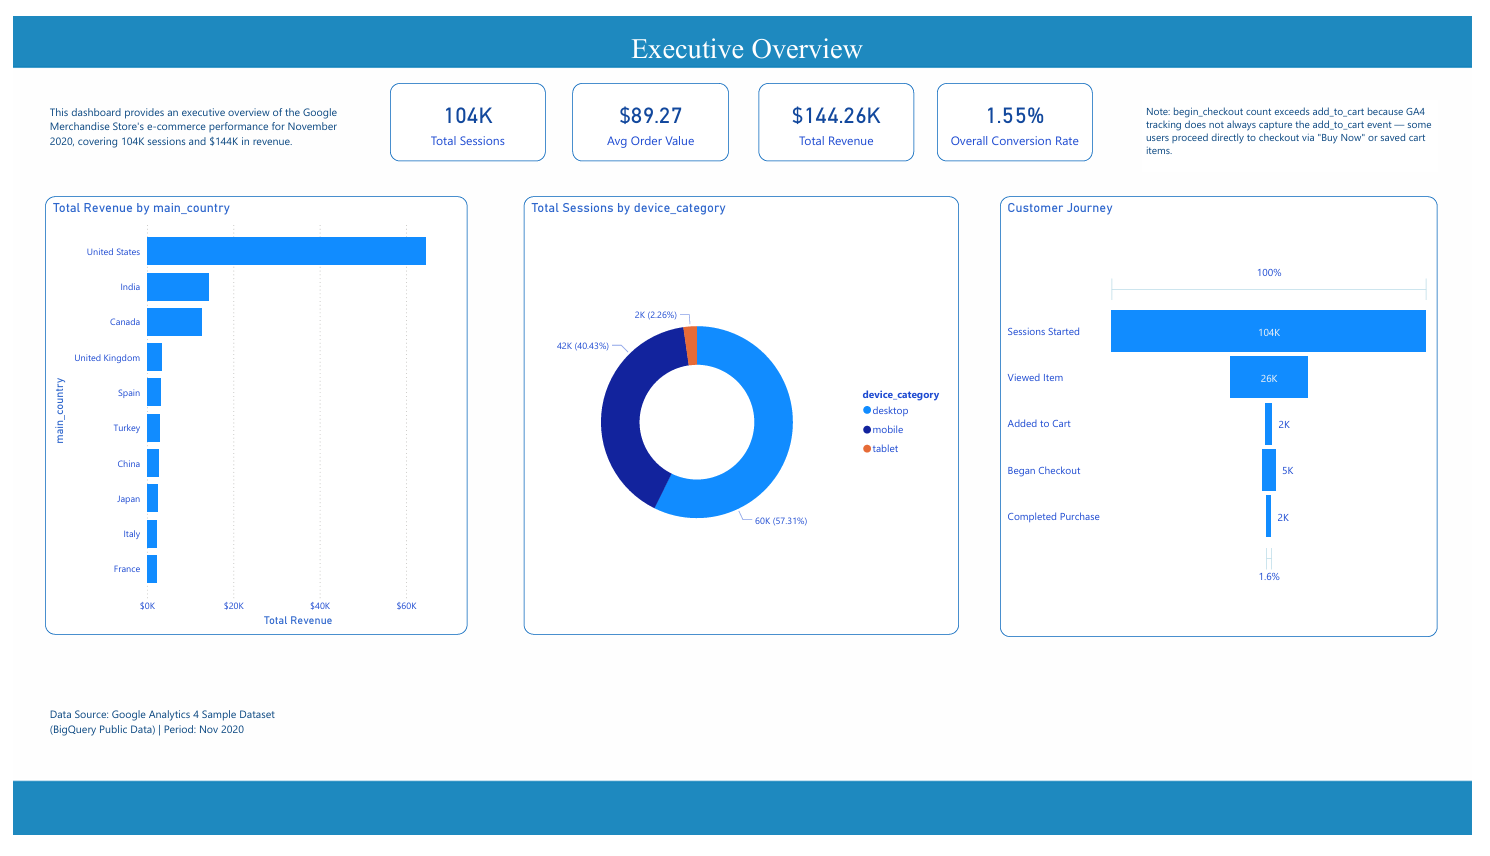

Layout of this report page (visuals, bound fields, positions):
{"tool":"powerbi","page":{"name":"Executive Overview","canvas":[1920,1080],"ordinal":0},"visuals":[{"type":"textbox","box":[775.1,15.7,381.9,71.9],"z":0},{"type":"card","fields":{"Values":["_Measures.Total Sessions"]},"box":[496.1,88.1,205,102.5],"z":1000},{"type":"card","fields":{"Values":["_Measures.Total Revenue"]},"box":[981.3,88.2,204.5,103.2],"z":2000},{"type":"card","fields":{"Values":["_Measures.Overall Conversion Rate"]},"box":[1215.6,88.1,205,102.5],"z":3000},{"type":"card","fields":{"Values":["_Measures.Avg Order Value"]},"box":[735.5,88.2,206.4,103.2],"z":4000},{"type":"funnel","title":"Customer Journey","fields":{"Y":["_Measures.Sessions Started","_Measures.Viewed Item","_Measures.Added to Cart","_Measures.Began Checkout","_Measures.Completed Purchase"]},"box":[1298.5,237.1,576.7,580.3],"z":5000},{"type":"donutChart","fields":{"Category":["marts fact_sessions.device_category"],"Y":["_Measures.Total Sessions"]},"box":[672.3,237.1,573.2,576.7],"z":6000},{"type":"clusteredBarChart","fields":{"Category":["marts dim_customers.main_country"],"Y":["_Measures.Total Revenue"]},"box":[42.5,237.1,555.5,576.7],"z":7000},{"type":"textbox","box":[1486,111.1,389,94.2],"z":8000},{"type":"textbox","box":[43.5,111.1,410.8,99.1],"z":8001},{"type":"textbox","box":[43.5,903.7,326.2,82.2],"z":8002}]}

Visuals, with their boxes in screenshot pixels (x1, y1, x2, y2), scaled from the page's 1920x1080 canvas onto the 1490x856 screenshot:
textbox: [left=602, top=12, right=898, bottom=69]
card - _Measures.Total Sessions: [left=385, top=70, right=544, bottom=151]
card - _Measures.Total Revenue: [left=762, top=70, right=920, bottom=152]
card - _Measures.Overall Conversion Rate: [left=943, top=70, right=1102, bottom=151]
card - _Measures.Avg Order Value: [left=571, top=70, right=731, bottom=152]
"Customer Journey" funnel: [left=1008, top=188, right=1455, bottom=648]
donutChart - marts fact_sessions.device_category x _Measures.Total Sessions: [left=522, top=188, right=967, bottom=645]
clusteredBarChart - marts dim_customers.main_country x _Measures.Total Revenue: [left=33, top=188, right=464, bottom=645]
textbox: [left=1153, top=88, right=1455, bottom=163]
textbox: [left=34, top=88, right=353, bottom=167]
textbox: [left=34, top=716, right=287, bottom=781]
